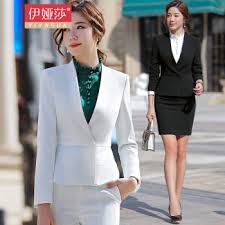F_dress pants: (151, 96, 198, 142)
S_business casual jacket: (145, 31, 207, 105)
